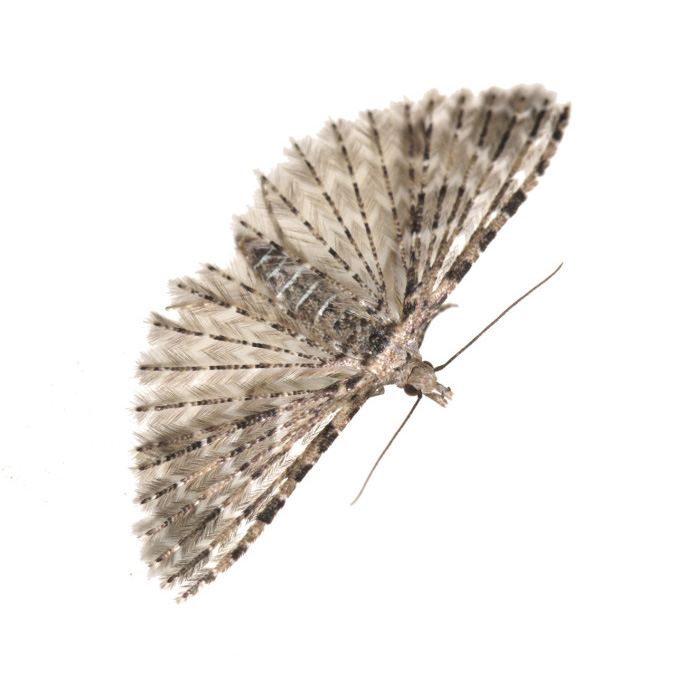Alucitidae: (122, 69, 573, 600)
moth: (124, 71, 575, 602)
